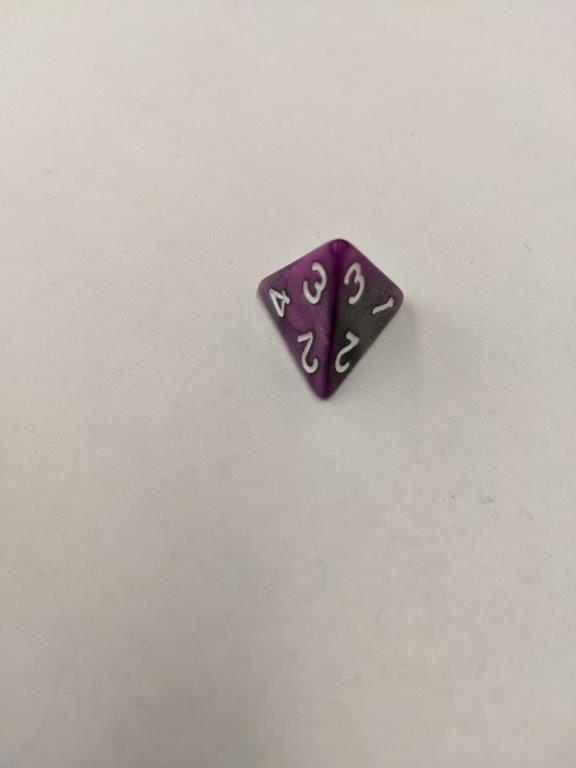d4-3: (250, 235, 409, 406)
